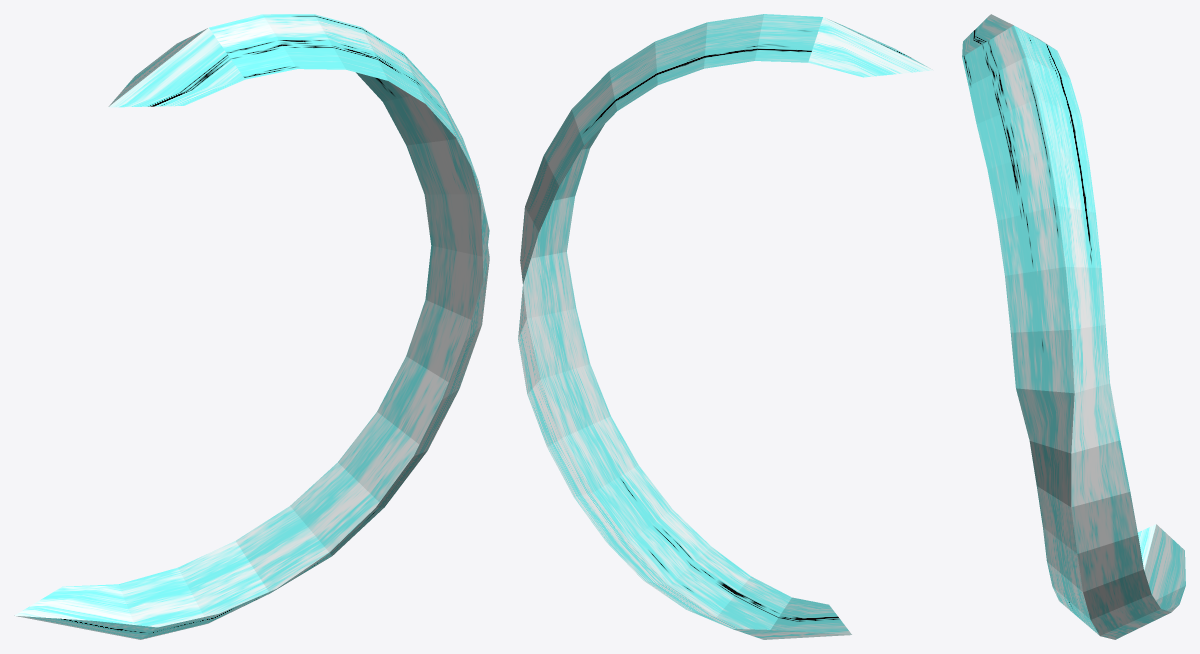
File: wind.obj
3 views of the same model, side by side, from view 1: azimuth 30°, elevation 25°; view 2: azimuth 150°, elevation 25°; view 3: azimuth 270°, elevation 25° (orthographic). The views are drawn at different scales.
Visible parts, largest first — view 1: 円柱; view 2: 円柱; view 3: 円柱.
Part boxes in pixels (bbox=[...]): 円柱: bbox=[14, 14, 489, 639]; 円柱: bbox=[518, 14, 933, 639]; 円柱: bbox=[962, 14, 1185, 639].
Size of the model in its own units: 1.35 by 2 by 0.6928.
1 material, 1 textured.
